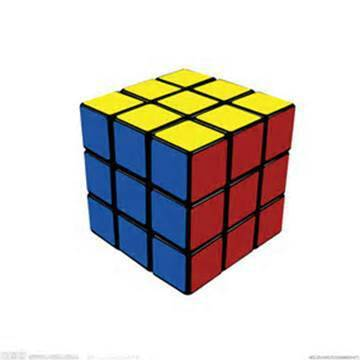cube: (68, 64, 308, 296)
